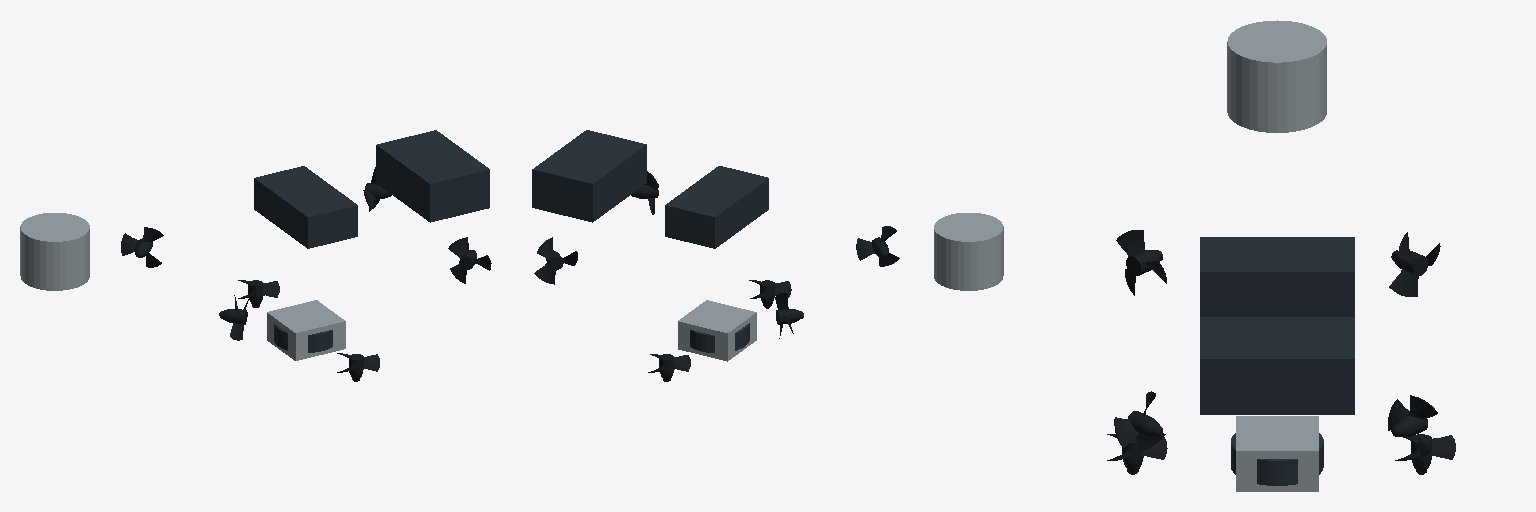
URDF robot description (youlong_auv):
<?xml version="1.0"?>
<!-- Simulation static geometry.  Keep this separate from the real vehicle
     drawing so a real calibration update cannot silently move Stonefish. -->
<robot name="youlong_auv">
  <material name="Hull White"><color rgba="0.88 0.89 0.86 1"/></material>
  <material name="Hull Yellow"><color rgba="1 0.72 0.04 1"/></material>
  <material name="Sensor Housing"><color rgba="0.20 0.24 0.27 1"/></material>
  <material name="Lens Glass"><color rgba="0.08 0.48 0.72 0.95"/></material>
  <material name="Sensor Metal"><color rgba="0.62 0.66 0.68 1"/></material>
  <material name="Propeller Dark"><color rgba="0.14 0.16 0.18 1"/></material>
  <link name="base_link">
  <!-- These OBJ files are CAD-space meshes. Their geometry origins reproduce
       Stonefish's mesh origin plus compound transform, including the 180 deg
       X rotation into body-FRD; only the visuals are rotated, not the TF links. -->

  <!-- Stonefish youlong.scn visual-only hull parts, converted from millimetres. -->
  <visual><origin xyz="0 0 0.18" rpy="3.1415926 0 0"/><geometry><mesh filename="package://uv_rviz/meshes/youlong/xy_buoyancy_block.obj" scale="0.001 0.001 0.001"/></geometry><material name="Hull Yellow"/></visual>
  <visual><origin xyz="0 0 0.18" rpy="3.1415926 0 0"/><geometry><mesh filename="package://uv_rviz/meshes/youlong/xy_left_sideplate.obj" scale="0.001 0.001 0.001"/></geometry><material name="Hull White"/></visual>
  <visual><origin xyz="0 0 0.18" rpy="3.1415926 0 0"/><geometry><mesh filename="package://uv_rviz/meshes/youlong/xy_right_sideplate.obj" scale="0.001 0.001 0.001"/></geometry><material name="Hull White"/></visual>
  <visual><origin xyz="0 0 0.18" rpy="3.1415926 0 0"/><geometry><mesh filename="package://uv_rviz/meshes/youlong/xy_forward_bracket.obj" scale="0.001 0.001 0.001"/></geometry><material name="Hull White"/></visual>
  <visual><origin xyz="0 0 0.18" rpy="3.1415926 0 0"/><geometry><mesh filename="package://uv_rviz/meshes/youlong/xy_aft_bracket.obj" scale="0.001 0.001 0.001"/></geometry><material name="Hull White"/></visual>
  <visual><origin xyz="0 0 0.18" rpy="3.1415926 0 0"/><geometry><mesh filename="package://uv_rviz/meshes/youlong/xy_core_enclosure.obj" scale="0.001 0.001 0.001"/></geometry><material name="Hull White"/></visual>
  <visual><origin xyz="0 0 0.18" rpy="3.1415926 0 0"/><geometry><mesh filename="package://uv_rviz/meshes/youlong/xy_ins_base_plate.obj" scale="0.001 0.001 0.001"/></geometry><material name="Hull White"/></visual>
  <visual><origin xyz="0 0 0.18" rpy="3.1415926 0 0"/><geometry><mesh filename="package://uv_rviz/meshes/youlong/battery_pod.obj" scale="0.001 0.001 0.001"/></geometry><material name="Hull White"/></visual>
  <!-- Stonefish actuator propeller placements from youlong.scn. -->
  <visual><origin xyz="-0.16485 0.12935 0.1095" rpy="0 0 0.780003"/><geometry><mesh filename="package://uv_rviz/meshes/youlong/propeller.obj" scale="0.35 0.35 0.35"/></geometry><material name="Propeller Dark"/></visual>
  <visual><origin xyz="-0.16485 -0.12935 0.1095" rpy="0 0 -0.780003"/><geometry><mesh filename="package://uv_rviz/meshes/youlong/propeller.obj" scale="0.35 0.35 0.35"/></geometry><material name="Propeller Dark"/></visual>
  <visual><origin xyz="0 -0.13 0.015" rpy="0 -1.5708 -0.00000265359"/><geometry><mesh filename="package://uv_rviz/meshes/youlong/propeller.obj" scale="0.35 0.35 0.35"/></geometry><material name="Propeller Dark"/></visual>
  <visual><origin xyz="0 0.13 0.015" rpy="0 -1.5708 -0.00000265359"/><geometry><mesh filename="package://uv_rviz/meshes/youlong/propeller.obj" scale="0.35 0.35 0.35"/></geometry><material name="Propeller Dark"/></visual>
  <visual><origin xyz="0.16485 0.12935 0.1095" rpy="0 0 2.356"/><geometry><mesh filename="package://uv_rviz/meshes/youlong/propeller.obj" scale="0.35 0.35 0.35"/></geometry><material name="Propeller Dark"/></visual>
  <visual><origin xyz="0.16485 -0.12935 0.1095" rpy="0 0 -2.356"/><geometry><mesh filename="package://uv_rviz/meshes/youlong/propeller.obj" scale="0.35 0.35 0.35"/></geometry><material name="Propeller Dark"/></visual>
  </link>

  <link name="front_camera_link"><visual><geometry><box size="0.09 0.14 0.055"/></geometry><material name="Sensor Housing"/></visual></link>
  <joint name="front_camera_mount" type="fixed">
    <parent link="base_link"/>
    <child link="front_camera_link"/>
    <origin xyz="0.19 0.0 0.176" rpy="0 0 0"/>
  </joint>
  <link name="front_left_camera_optical_frame"><visual><geometry><cylinder radius="0.014" length="0.014"/></geometry><material name="Lens Glass"/></visual></link>
  <joint name="front_left_camera_mount" type="fixed">
    <parent link="front_camera_link"/>
    <child link="front_left_camera_optical_frame"/>
    <origin xyz="0 -0.05 0" rpy="1.5708 0 1.5708"/>
  </joint>
  <link name="front_right_camera_optical_frame"><visual><geometry><cylinder radius="0.014" length="0.014"/></geometry><material name="Lens Glass"/></visual></link>
  <joint name="front_right_camera_mount" type="fixed">
    <parent link="front_camera_link"/>
    <child link="front_right_camera_optical_frame"/>
    <origin xyz="0 0.05 0" rpy="1.5708 0 1.5708"/>
  </joint>

  <link name="downward_camera_link"><visual><geometry><box size="0.075 0.14 0.045"/></geometry><material name="Sensor Housing"/></visual></link>
  <joint name="downward_camera_mount" type="fixed">
    <parent link="base_link"/>
    <child link="downward_camera_link"/>
    <origin xyz="0 0 0.176" rpy="0 0 0"/>
  </joint>
  <link name="downward_left_camera_optical_frame"><visual><geometry><cylinder radius="0.013" length="0.012"/></geometry><material name="Lens Glass"/></visual></link>
  <joint name="downward_left_camera_mount" type="fixed">
    <parent link="downward_camera_link"/>
    <child link="downward_left_camera_optical_frame"/>
    <origin xyz="0 -0.05 0" rpy="0 0 1.5708"/>
  </joint>
  <link name="downward_right_camera_optical_frame"><visual><geometry><cylinder radius="0.013" length="0.012"/></geometry><material name="Lens Glass"/></visual></link>
  <joint name="downward_right_camera_mount" type="fixed">
    <parent link="downward_camera_link"/>
    <child link="downward_right_camera_optical_frame"/>
    <origin xyz="0 0.05 0" rpy="0 0 1.5708"/>
  </joint>

  <link name="imu_link"><visual><geometry><box size="0.075 0.075 0.04"/></geometry><material name="Sensor Metal"/></visual></link>
  <joint name="imu_mount" type="fixed">
    <parent link="base_link"/>
    <child link="imu_link"/>
    <origin xyz="0 0 0" rpy="0 0 0"/>
  </joint>
  <link name="dvl_link"><visual><geometry><cylinder radius="0.045" length="0.07"/></geometry><material name="Sensor Metal"/></visual></link>
  <joint name="dvl_mount" type="fixed">
    <parent link="base_link"/>
    <child link="dvl_link"/>
    <origin xyz="-0.375 0 0.2" rpy="3.1416 0 -0.785003"/>
  </joint>
  <link name="usbl_link"><visual><geometry><cylinder radius="0.042" length="0.025"/></geometry><material name="Sensor Housing"/></visual></link>
  <joint name="usbl_mount" type="fixed">
    <parent link="base_link"/>
    <child link="usbl_link"/>
    <origin xyz="0 0 0" rpy="0 0 0"/>
  </joint>
</robot>

--- Facts derived from the render (not from the file) ---
Views: 3 orthographic renders of the robot side by side, from view 1: azimuth 30°, elevation 25°; view 2: azimuth 150°, elevation 25°; view 3: azimuth 270°, elevation 25°.
Model youlong_auv with 10 links and 9 joints (9 fixed), rooted at base_link, posed every joint at zero.
Visible links, largest first — view 1: front_camera_link, downward_camera_link, dvl_link, base_link, imu_link, usbl_link; view 2: front_camera_link, downward_camera_link, dvl_link, base_link, imu_link, usbl_link; view 3: front_camera_link, downward_camera_link, dvl_link, base_link, imu_link, usbl_link.
Boxes of the visible links, x1,y1,x2,y2 form: front_camera_link: [376, 130, 489, 222]; downward_camera_link: [254, 166, 357, 248]; dvl_link: [20, 213, 89, 290]; base_link: [121, 167, 491, 381]; imu_link: [267, 300, 345, 360]; usbl_link: [274, 323, 332, 352]; front_camera_link: [532, 130, 646, 222]; downward_camera_link: [665, 166, 768, 248]; dvl_link: [934, 213, 1003, 290]; base_link: [534, 171, 899, 381]; imu_link: [678, 300, 756, 361]; usbl_link: [690, 323, 749, 352]; front_camera_link: [1200, 317, 1354, 414]; downward_camera_link: [1200, 237, 1354, 316]; dvl_link: [1227, 20, 1326, 132]; base_link: [1107, 230, 1455, 474]; imu_link: [1236, 416, 1318, 491]; usbl_link: [1231, 433, 1323, 485].
Size in the robot's own frame: 0.655 by 0.3173 by 0.255 metres.
Meshes: 9 distinct files referenced, 6 mesh visuals loaded (1 OBJ); not drawn: 8 (reference not matched to a file when rendering).
